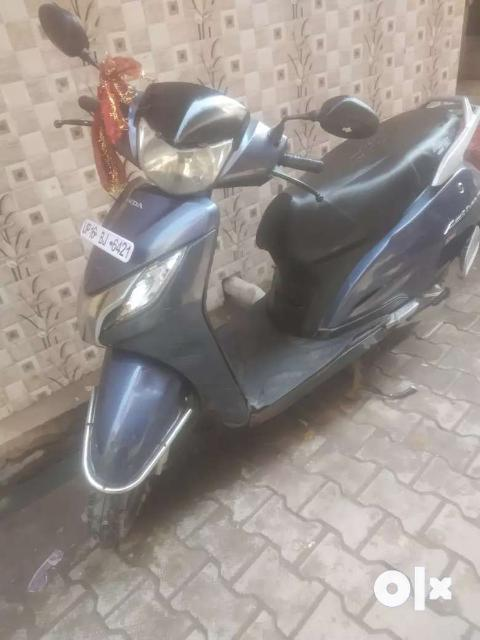Indian_Number_Plate: (80, 220, 134, 262)
